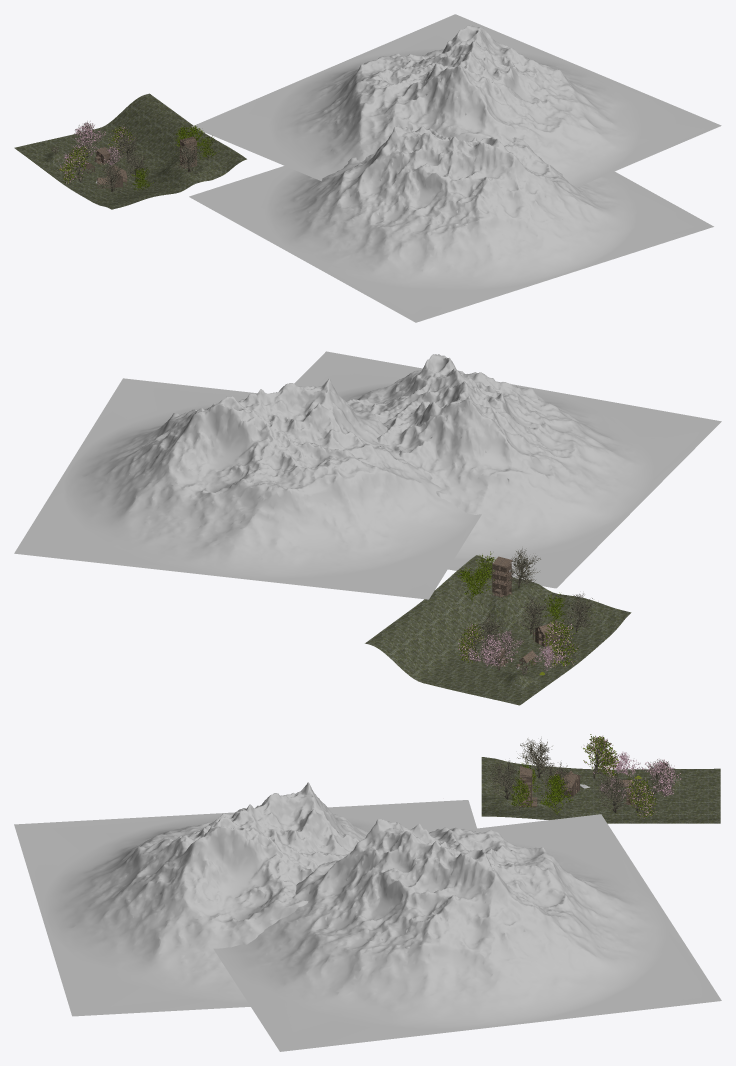
Rendered from world.glb.
3 views of the same model, one above another, from view 1: azimuth 30°, elevation 25°; view 2: azimuth 150°, elevation 25°; view 3: azimuth 270°, elevation 25° (orthographic). The views are drawn at different scales.
Parts seen in each view (by area): view 1: Landscape.003, Landscape.001, Plane.025, Spring Sakura Tree.003, Tree White Sakura; view 2: Landscape.001, Landscape.003, Plane.025, Spring Sakura Tree.003, Tree White Sakura, White Sakura.003, Spring Sakura Tree.002, White Sakura, White Sakura.002, Spring Cherry Tree; view 3: Landscape.001, Landscape.003, Plane.025, Spring Sakura Tree.003, Tree White Sakura, Spring Sakura Tree.002, White Sakura.001, White Sakura.002, White Sakura.003, Spring Cherry Tree, White Sakura.
Boxes of the visible parts, x1,y1,x2,y2 form: Landscape.003: [189, 126, 713, 322]; Landscape.001: [191, 14, 721, 187]; Plane.025: [14, 93, 246, 209]; Spring Sakura Tree.003: [60, 146, 90, 183]; Tree White Sakura: [71, 121, 105, 157]; Landscape.001: [14, 378, 481, 599]; Landscape.003: [294, 351, 721, 588]; Plane.025: [365, 555, 631, 705]; Spring Sakura Tree.003: [541, 619, 578, 666]; Tree White Sakura: [465, 634, 518, 670]; White Sakura.003: [561, 593, 598, 632]; Spring Sakura Tree.002: [457, 623, 486, 662]; White Sakura: [516, 594, 552, 634]; White Sakura.002: [505, 548, 540, 588]; Spring Cherry Tree: [457, 567, 490, 601]; Landscape.001: [213, 814, 721, 1051]; Landscape.003: [14, 782, 476, 1016]; Plane.025: [481, 757, 720, 823]; Spring Sakura Tree.003: [583, 734, 618, 778]; Tree White Sakura: [633, 759, 681, 796]; Spring Sakura Tree.002: [626, 777, 656, 818]; White Sakura.001: [594, 771, 629, 812]; White Sakura.002: [486, 759, 519, 799]; White Sakura.003: [517, 738, 554, 778]; Spring Cherry Tree: [540, 774, 573, 814]; White Sakura: [536, 762, 571, 801].
Bounding box in the file's own units: 260 × 61.27 × 247.
20 materials, 15 textured.
